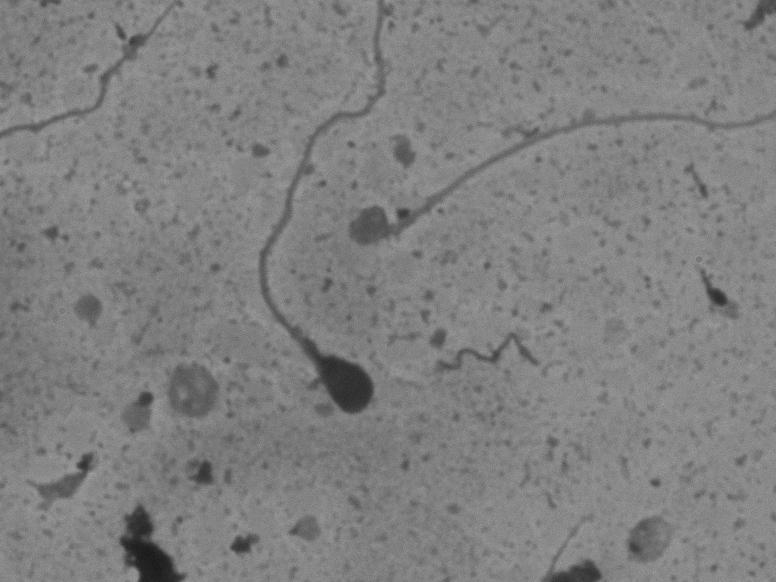Abnormal: (238, 14, 399, 424), (333, 132, 643, 262)
